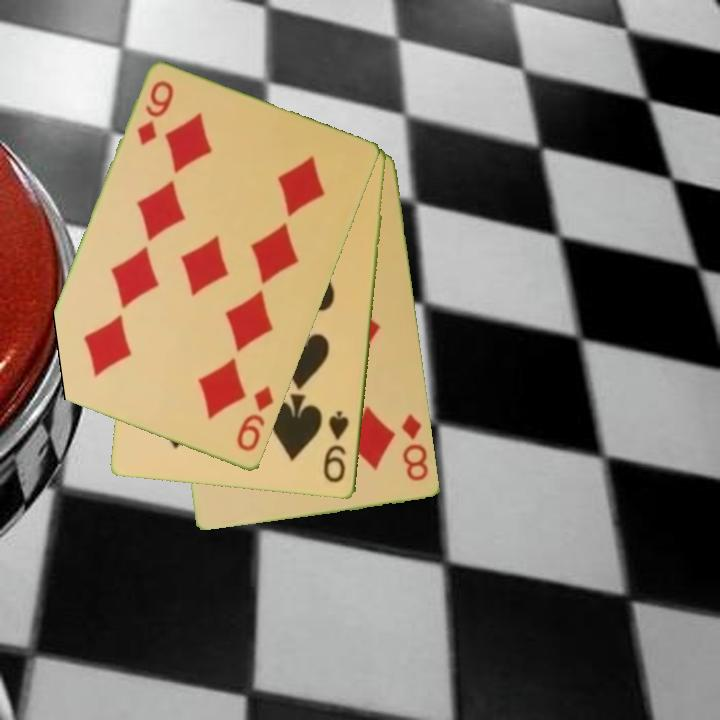8d: (399, 410, 432, 485)
9d: (233, 383, 277, 455), (133, 77, 177, 149)
9s: (320, 408, 352, 486)
